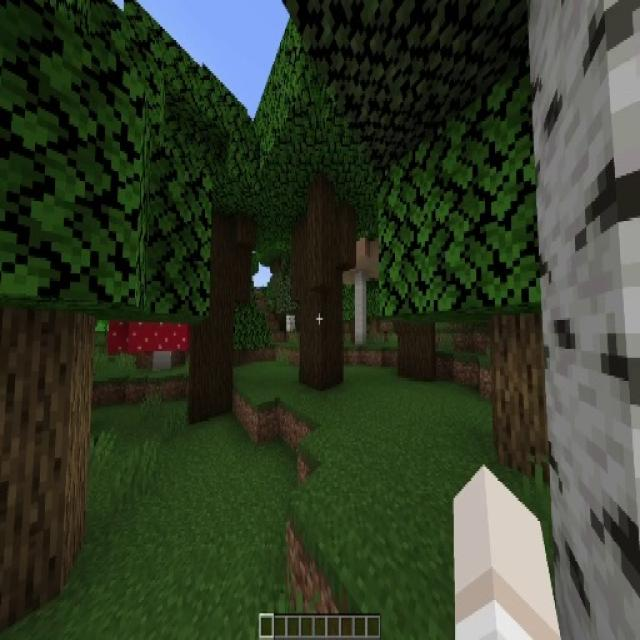birch_log: (531, 0, 640, 640)
dark_oak: (258, 44, 386, 391), (156, 73, 278, 427)
dark_oak_log: (192, 212, 252, 412), (296, 195, 350, 381), (397, 318, 433, 379)
oak: (0, 0, 194, 606), (387, 22, 640, 464)
oak_log: (0, 304, 91, 604), (495, 314, 550, 469)
